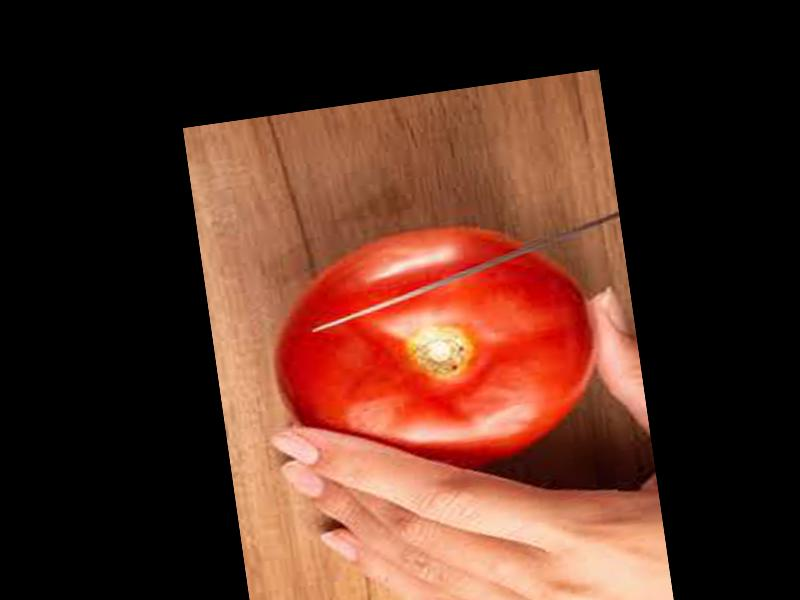Tomato: (262, 213, 607, 494)
